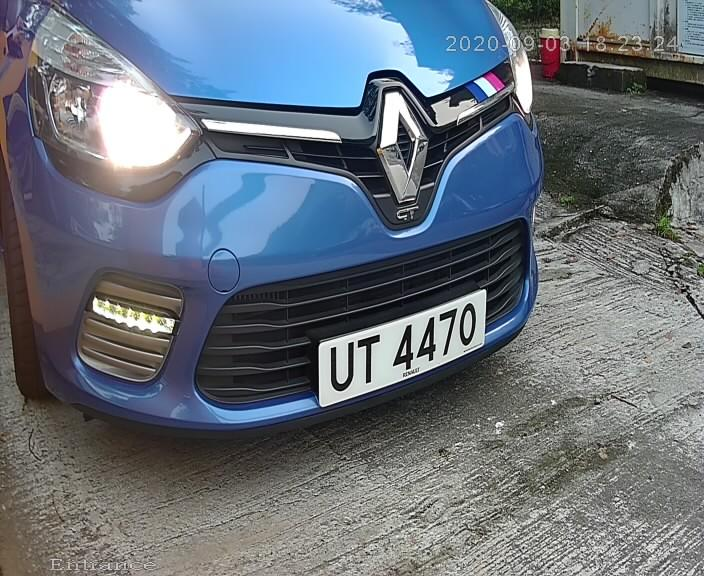License Plate: (298, 277, 502, 428)
